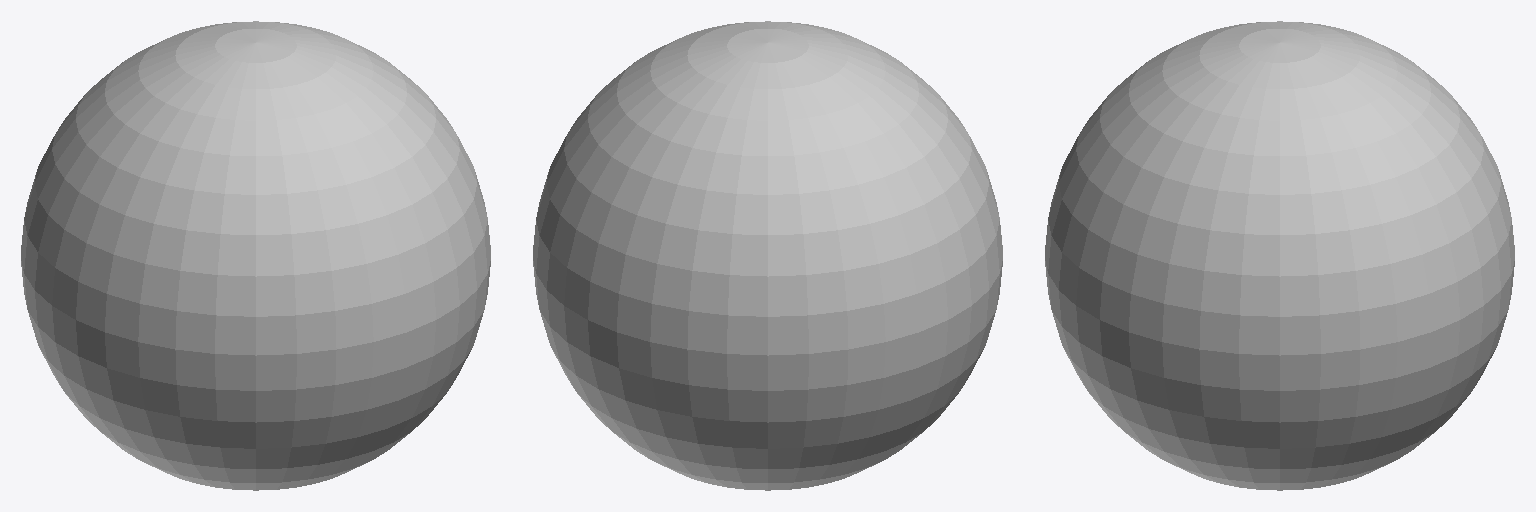
The model's file is minisol.obj.
3 views of the same model, side by side, from view 1: azimuth 30°, elevation 25°; view 2: azimuth 150°, elevation 25°; view 3: azimuth 270°, elevation 25° (orthographic).
Parts seen in each view (by area): view 1: Sphere.013; view 2: Sphere.013; view 3: Sphere.013.
Boxes of the visible parts, x1,y1,x2,y2 form: Sphere.013: [21, 21, 490, 490]; Sphere.013: [533, 21, 1002, 490]; Sphere.013: [1045, 21, 1514, 490].
Size of the model in its own units: 417420 by 417420 by 417420.